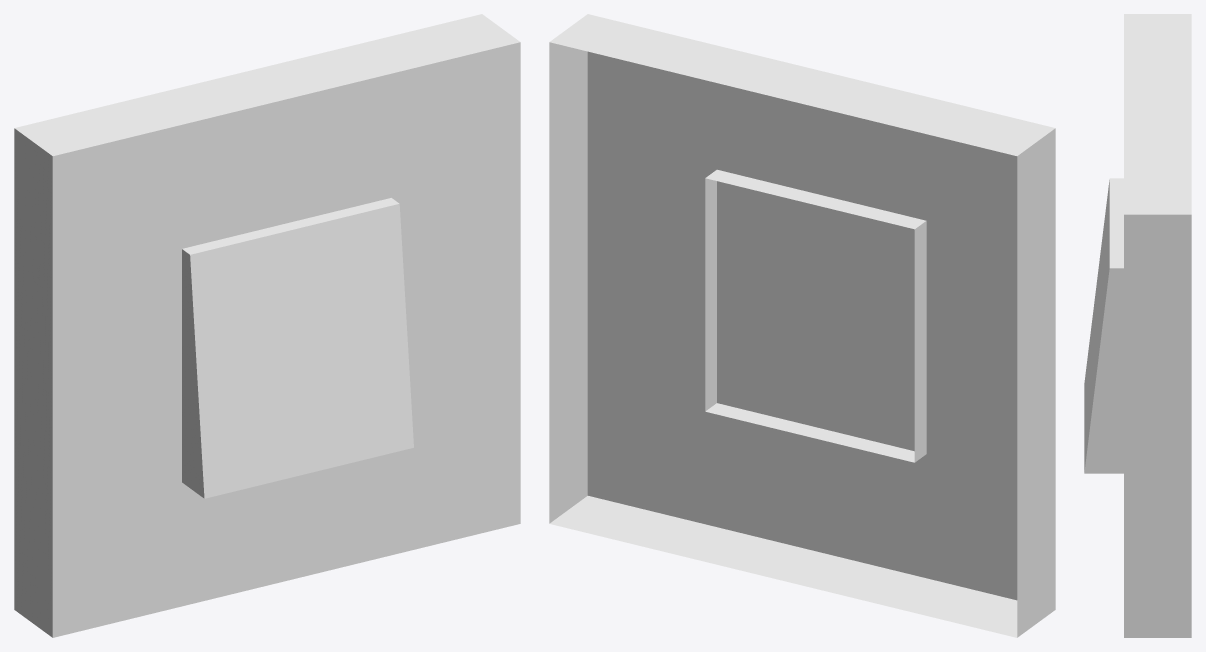
The model's file is Room_LightSwitch.FBX.
3 views of the same model, side by side, from view 1: azimuth 30°, elevation 25°; view 2: azimuth 150°, elevation 25°; view 3: azimuth 270°, elevation 25° (orthographic). The views are drawn at different scales.
Parts seen in each view (by area): view 1: Room_light_switch; view 2: Room_light_switch; view 3: Room_light_switch.
Boxes of the visible parts, left/top/right/bottom form: Room_light_switch: left=14, top=14, right=520, bottom=637; Room_light_switch: left=549, top=14, right=1055, bottom=637; Room_light_switch: left=1084, top=14, right=1191, bottom=637.
Size of the model in its own units: 0.0722 by 0.071 by 0.0163.
